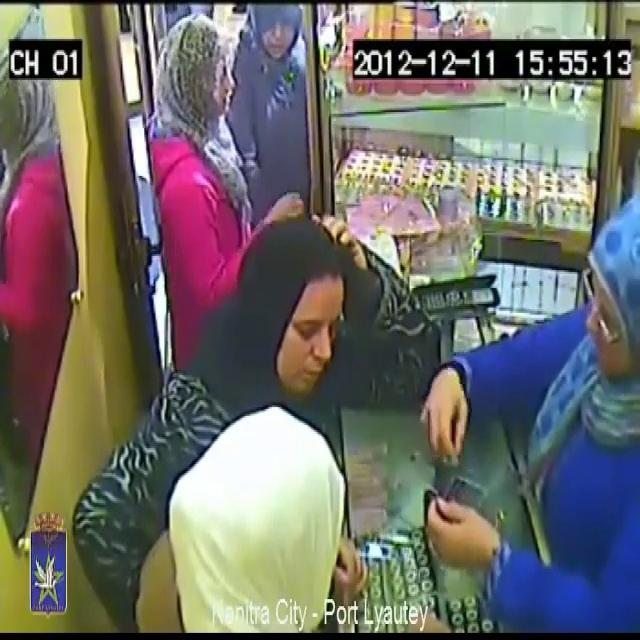Product: (446, 427, 464, 471)
normal: (139, 404, 407, 640), (148, 7, 274, 274), (247, 195, 378, 412), (228, 0, 314, 192)
shoplifting: (411, 199, 640, 640)
